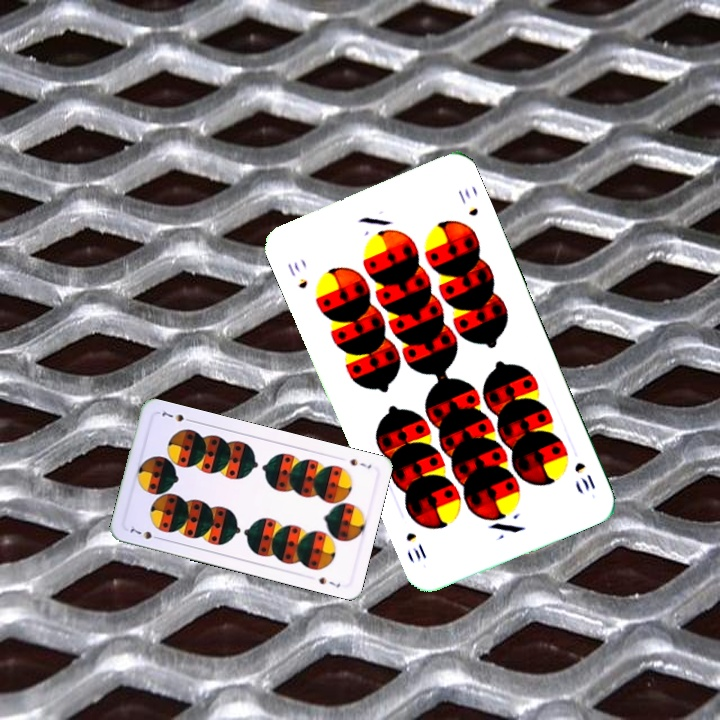S10: (570, 458, 598, 494), (283, 257, 311, 291)
S7: (125, 521, 164, 542), (346, 455, 374, 471)
